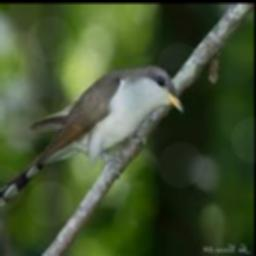Cuckoo: (0, 65, 184, 208)
